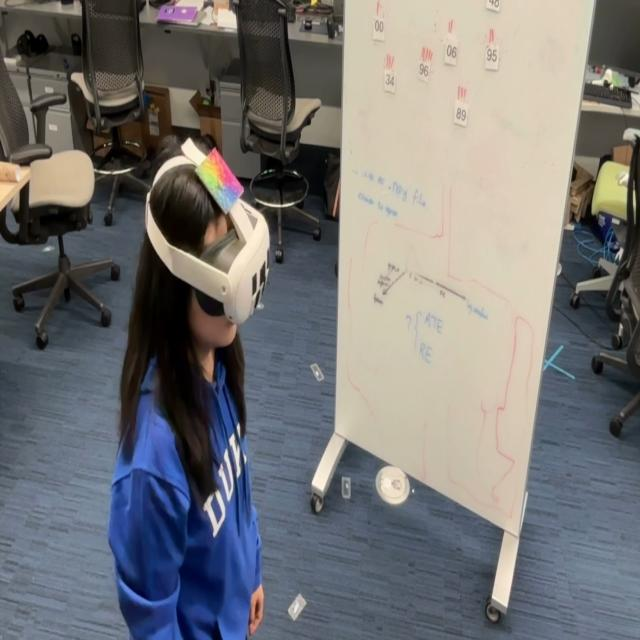Headset: (144, 144, 270, 325)
Marker: (198, 142, 250, 224)
